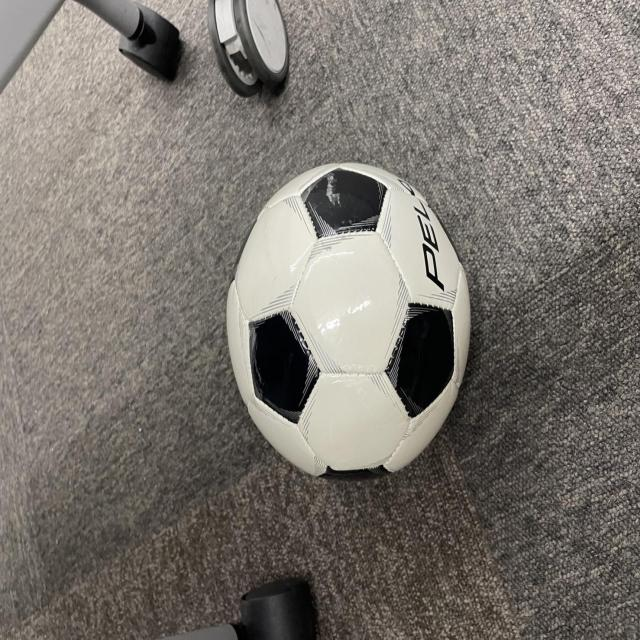Soccer Ball: (228, 163, 472, 479)
